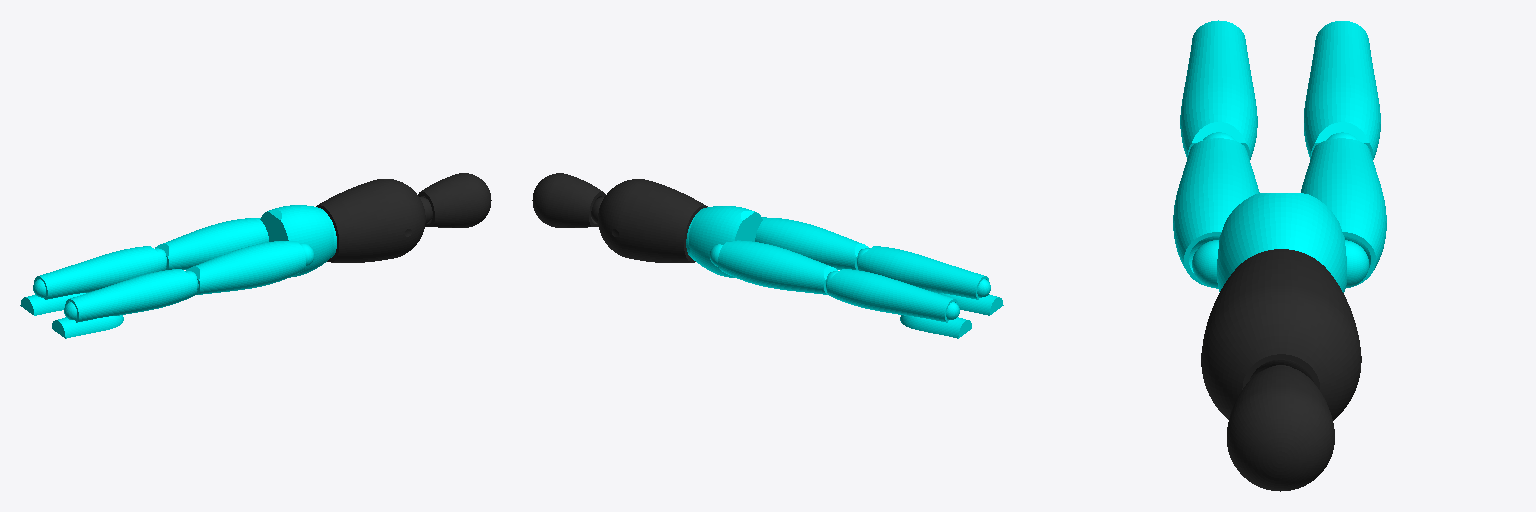
robot.urdf — human_5dof:
<?xml version="1.0" ?>
<robot name="human_5dof">
  <link name="world"/>
  <joint name="world_to_human" type="fixed">
    <origin rpy="1.57 0.0 0.0" xyz="0.0 0.0 0.0"/>
    <axis xyz="0 0 1"/>
    <parent link="world"/>
    <child link="foot"/>
  </joint>
  <material name="body_color">
    <texture/>
    <color rgba="0.005 0.005 0.005 0.6"/>
  </material>
  <link name="foot">
    <inertial>
      <mass value="2.0"/>
      <origin rpy="0 0 0" xyz="0.135 0 0.0"/>
      <inertia ixx="0.0009" ixy="0.0" ixz="0.0" iyy="0.0122" iyz="0.0" izz="0.0122"/>
    </inertial>
    <visual>
      <origin rpy="0 0 0" xyz="-0 0 0.1"/>
      <geometry>
        <mesh filename="package://human_urdf/meshes/foot_mesh.STL" scale="0.0060 0.0060 0.0060"/>
      </geometry>
      <material name="body_color">
        <texture/>
        <color rgba="0 1 1 0.5"/>
      </material>
    </visual>
    <visual>
      <origin rpy="0 0 0" xyz="0 0.0 -0.1"/>
      <geometry>
        <mesh filename="package://human_urdf/meshes/foot_mesh.STL" scale="0.0060 0.0060 0.0060"/>
      </geometry>
      <material name="body_color">
        <texture/>
        <color rgba="0 1 1 0.5"/>
      </material>
    </visual>
  </link>
  <joint name="ankle_Z" type="revolute">
    <origin rpy="0 0 0" xyz="0.0 0.0 0.0"/>
    <axis xyz="0 0 1"/>
    <parent link="foot"/>
    <child link="lowerleg"/>
    <limit effort="500.0" lower="-3.14159" upper="3.14159" velocity="200.0"/>
  </joint>
  <link name="lowerleg">
    <inertial>
      <mass value="6.79"/>
      <origin rpy="0 0 0" xyz="0.202 0.0 0.0"/>
      <inertia ixx="0.03" ixy="-0.0" ixz="0.0" iyy="0.1250" iyz="0.0" izz="0.1250"/>
    </inertial>
    <visual>
      <origin rpy="0 0 -1.57" xyz="0.45 0.0 0.1"/>
      <geometry>
        <mesh filename="package://human_urdf/meshes/lowerleg_mesh.STL" scale="0.0063 0.0065 0.007"/>
      </geometry>
      <material name="body_color">
        <texture/>
        <color rgba="0 1 1 0.5"/>
      </material>
    </visual>
    <visual>
      <origin rpy="0 0 -1.57" xyz="0.45 0.0 -0.1"/>
      <geometry>
        <mesh filename="package://human_urdf/meshes/lowerleg_mesh.STL" scale="0.0063 0.0065 0.007"/>
      </geometry>
      <material name="body_color">
        <texture/>
        <color rgba="0 1 1 0.5"/>
      </material>
    </visual>
  </link>
  <joint name="knee_Z" type="revolute">
    <origin rpy="0 -0 0" xyz="0.3751 0.0 0.0"/>
    <axis xyz="0 0 1"/>
    <parent link="lowerleg"/>
    <child link="upperleg"/>
    <limit effort="500.0" lower="-0.10" upper="3.14159" velocity="200.0"/>
  </joint>
  <link name="upperleg">
    <inertial>
      <mass value="14.84"/>
      <origin rpy="0 -0 0" xyz="0.185 0.0 0.0"/>
      <inertia ixx="0.13" ixy="0.0" ixz="0.0" iyy="0.2293" iyz="0.0" izz="0.2293"/>
    </inertial>
    <visual>
      <origin rpy="0.0 0 -1.57" xyz="0.05 0.0 0.1"/>
      <geometry>
        <mesh filename="package://human_urdf/meshes/knee_mesh.STL" scale="0.006 0.006 0.006"/>
      </geometry>
      <material name="body_color">
        <texture/>
        <color rgba="0 1 1 0.5"/>
      </material>
    </visual>
    <visual>
      <origin rpy="0.0 0 -1.57" xyz="0.05 0.0 -0.1"/>
      <geometry>
        <mesh filename="package://human_urdf/meshes/knee_mesh.STL" scale="0.006 0.006 0.006"/>
      </geometry>
      <material name="body_color">
        <texture/>
        <color rgba="0 1 1 0.5"/>
      </material>
    </visual>
    <visual>
      <origin rpy="0 0 -1.57" xyz="0.47 0.0 0.1"/>
      <geometry>
        <mesh filename="package://human_urdf/meshes/upperleg_mesh.STL" scale="0.0063 0.0065 0.007"/>
      </geometry>
      <material name="body_color">
        <texture/>
        <color rgba="0 1 1 0.5"/>
      </material>
    </visual>
    <visual>
      <origin rpy="0 0 -1.57" xyz="0.47 0.0 -0.1"/>
      <geometry>
        <mesh filename="package://human_urdf/meshes/upperleg_mesh.STL" scale="0.0063 0.0065 0.007"/>
      </geometry>
      <material name="body_color">
        <texture/>
        <color rgba="0 1 1 0.5"/>
      </material>
    </visual>
  </link>
  <joint name="lumbar_Z" type="revolute">
    <origin rpy="0 -0 0" xyz="0.4661 0.0 0.0"/>
    <axis xyz="0 0 1"/>
    <parent link="upperleg"/>
    <child link="trunk"/>
    <limit effort="500.0" lower="-3.14" upper="3.14159" velocity="200.0"/>
  </joint>
  <link name="trunk">
    <inertial>
      <mass value="41.83"/>
      <origin rpy="0 -0 0" xyz="0.544 0.0 -0.0"/>
      <inertia ixx="0.3" ixy="0" ixz="0" iyy="4.772" iyz="0" izz="4.772"/>
    </inertial>
    <visual>
      <origin rpy="0 0 -1.57" xyz="0.05 0.0 0.0"/>
      <geometry>
        <mesh filename="package://human_urdf/meshes/pelvis_mesh.STL" scale="0.006 0.0055 0.0055"/>
      </geometry>
      <material name="body_color">
        <texture/>
        <color rgba="0 1 1 0.5"/>
      </material>
    </visual>
    <visual>
      <origin rpy="0 -0 -1.57" xyz="0.06 0.0 0.0"/>
      <geometry>
        <mesh filename="package://human_urdf/meshes/abdomen_mesh.STL" scale="0.0055 0.0055 0.0055"/>
      </geometry>
      <material name="body_color">
        <texture/>
        <color rgba="0 1 1 0.5"/>
      </material>
    </visual>
    <visual>
      <origin rpy="0 0 -1.57" xyz="0.0 0.0 0.0"/>
      <geometry>
        <mesh filename="package://human_urdf/meshes/torso_mesh.STL" scale="0.0065 0.0065 0.0065"/>
      </geometry>
      <material name="body_color">
        <texture/>
        <color rgba="0.2 0.2 0.2 0.2"/>
      </material>
    </visual>
    <visual>
      <origin rpy="0 0 -1.57" xyz="0.5 0.0 0.0"/>
      <geometry>
        <mesh filename="package://human_urdf/meshes/head_mesh.STL" scale="0.0055 0.0055 0.0055"/>
      </geometry>
      <material name="body_color">
        <texture/>
        <color rgba="0.2 0.2 0.2 0.5"/>
      </material>
    </visual>
    <visual>
      <origin rpy="0 0.0 0" xyz="0.5 -0.0 0.0"/>
      <geometry>
        <mesh filename="package://human_urdf/meshes/neck_mesh.STL" scale="0.005 0.005 0.005"/>
      </geometry>
      <material name="body_color">
        <texture/>
        <color rgba="0.2 0.2 0.2 0.7"/>
      </material>
    </visual>
  </link>
  <joint name="shoulder_Z" type="revolute">
    <origin rpy="0 -0 0" xyz="0.4305 0.0 0.0"/>
    <axis xyz="0 0 1"/>
    <parent link="trunk"/>
    <child link="upperarm"/>
    <limit effort="500.0" lower="-4.01" upper="1.5708" velocity="200.0"/>
  </joint>
  <link name="upperarm">
    <inertial>
      <mass value="3.94"/>
      <origin rpy="0 -0 0" xyz="0.146 0.0 0.0"/>
      <inertia ixx="0.011874" ixy="0.0" ixz="0.0" iyy="0.0380" iyz="0" izz="0.0380"/>
    </inertial>
    <!-- <visual>
      <origin rpy="0 0 1.57" xyz="0.0 0.0 0.15"/>
      <geometry>
        <mesh filename="package://human_urdf/meshes/shoulder_mesh.STL" scale="0.0055 0.0055 0.0055"/>
      </geometry>
      <material name="body_color">
        <texture/>
        <color rgba="0 1 1 0.5"/>
      </material>
    </visual>
    <visual>
      <origin rpy="0 0 1.57" xyz="0.0 0.0 0.15"/>
      <geometry>
        <mesh filename="package://human_urdf/meshes/upperarm_mesh.STL" scale="0.0063 0.0060 0.007"/>
      </geometry>
      <material name="body_color"/>
    </visual>
    <visual>
      <origin rpy="0 0 1.57" xyz="0.0 0.0 -0.15"/>
      <geometry>
        <mesh filename="package://human_urdf/meshes/shoulder_mesh.STL" scale="0.0055 0.0055 0.0055"/>
      </geometry>
      <material name="body_color">
        <texture/>
        <color rgba="0 1 1 0.5"/>
      </material>
    </visual>
    <visual>
      <origin rpy="0 0 1.57" xyz="0.0 0.0 -0.15"/>
      <geometry>
        <mesh filename="package://human_urdf/meshes/upperarm_mesh.STL" scale="0.0063 0.0060 0.007"/>
      </geometry>
      <material name="body_color"/>
    </visual> -->
  </link>
  <joint name="elbow_Z" type="revolute">
    <origin rpy="0 -0 0" xyz="0.3052 0.0 0.0"/>
    <axis xyz="0 0 1"/>
    <parent link="upperarm"/>
    <child link="lowerarm"/>
    <limit effort="500.0" lower="-0.10" upper="2.96706" velocity="200.0"/>
  </joint>
  <link name="lowerarm">
    <inertial>
      <mass value="2.34"/>
      <origin rpy="0 -0 0" xyz="0.116 0.0 0.0"/>
      <inertia ixx="0.007479" ixy="0" ixz="0" iyy="0.0143" iyz="0.0" izz="0.0143"/>
    </inertial>
    <!-- <visual>
      <origin rpy="0 0 1.57" xyz="0.02 0. 0.15"/>
      <geometry>
        <mesh filename="package://human_urdf/meshes/elbow_mesh.STL" scale="0.0055 0.0055 0.0055"/>
      </geometry>
      <material name="body_color">
        <texture/>
        <color rgba="0 1 1 0.5"/>
      </material>
    </visual>
    <visual>
      <origin rpy="0 0 1.57" xyz="0.03 0.0 0.15"/>
      <geometry>
        <mesh filename="package://human_urdf/meshes/lowerarm_mesh.STL" scale="0.0060 0.0060 0.0060"/>
      </geometry>
      <material name="body_color">
        <texture/>
        <color rgba="0 1 1 0.5"/>
      </material>
    </visual>
    <visual>
      <origin rpy="0 0 1.57" xyz="0.02 0.0 -0.15"/>
      <geometry>
        <mesh filename="package://human_urdf/meshes/elbow_mesh.STL" scale="0.0055 0.0055 0.0055"/>
      </geometry>
      <material name="body_color">
        <texture/>
        <color rgba="0 1 1 0.5"/>
      </material>
    </visual>
    <visual>
      <origin rpy="0 0 1.57" xyz="0.03 0.0 -0.15"/>
      <geometry>
        <mesh filename="package://human_urdf/meshes/lowerarm_mesh.STL" scale="0.0060 0.0060 0.0060"/>
      </geometry>
      <material name="body_color">
        <texture/>
        <color rgba="0 1 1 0.5"/>
      </material>
    </visual> -->
  </link>
  <joint name="hand_fixed" type="fixed">
    <origin rpy="0 -0 0" xyz="0.2173 0.0 0.0"/>
    <axis xyz="0 0 1"/>
    <parent link="lowerarm"/>
    <child link="hand"/>
    <limit effort="500.0" lower="-1.5708" upper="1.5708" velocity="200.0"/>
  </joint>
  <link name="hand">
    <inertial>
      <mass value="0.88"/>
      <origin rpy="0 -0 0" xyz="0.055 0 0"/>
      <inertia ixx="0.0" ixy="0.0" ixz="0.0" iyy="0.0009" iyz="0.0" izz="0.0009"/>
    </inertial>
    <!-- <visual>
      <origin rpy="0 1.57 1.57" xyz="0.035 0.0 0.15"/>
      <geometry>
        <mesh filename="package://human_urdf/meshes/hand_mesh.STL" scale="0.0060 0.0060 0.0060"/>
      </geometry>
      <material name="body_color">
        <texture/>
        <color rgba="0 1 1 0.5"/>
      </material>
    </visual>
    <visual>
      <origin rpy="0 -1.57 1.57" xyz="0.035 0.0 -0.15"/>
      <geometry>
        <mesh filename="package://human_urdf/meshes/hand_mesh.STL" scale="0.0060 0.0060 0.0060"/>
      </geometry>
      <material name="body_color">
        <texture/>
        <color rgba="0 1 1 0.5"/>
      </material>
    </visual> -->
  </link>
</robot>

--- What the picture shows (computed from the rendered views, not written in the file) ---
The picture shows the robot from 3 angles, left to right: view 1: azimuth 30°, elevation 25°; view 2: azimuth 150°, elevation 25°; view 3: azimuth 270°, elevation 25°; orthographic projection.
Robot: human_5dof — 8 links, 7 joints (5 revolute, 2 fixed); root link world; default pose: all joints at 0.
Links seen in each view (by area): view 1: trunk, upperleg, lowerleg, foot; view 2: trunk, upperleg, lowerleg, foot; view 3: trunk, lowerleg, upperleg.
Link boxes in pixels (left/top/right/bottom): trunk: left=260, top=173, right=491, bottom=277; upperleg: left=155, top=218, right=313, bottom=294; lowerleg: left=34, top=246, right=196, bottom=322; foot: left=20, top=279, right=123, bottom=338; trunk: left=532, top=173, right=762, bottom=277; upperleg: left=710, top=217, right=869, bottom=294; lowerleg: left=827, top=246, right=989, bottom=322; foot: left=900, top=279, right=1003, bottom=338; trunk: left=1201, top=193, right=1361, bottom=491; lowerleg: left=1180, top=20, right=1380, bottom=159; upperleg: left=1173, top=132, right=1386, bottom=288.
Bounding box of the posed robot: 1.65 × 0.3468 × 0.2406 m (x, y, z).
13 mesh visuals loaded from 9 distinct referenced files (9 binary STL).
